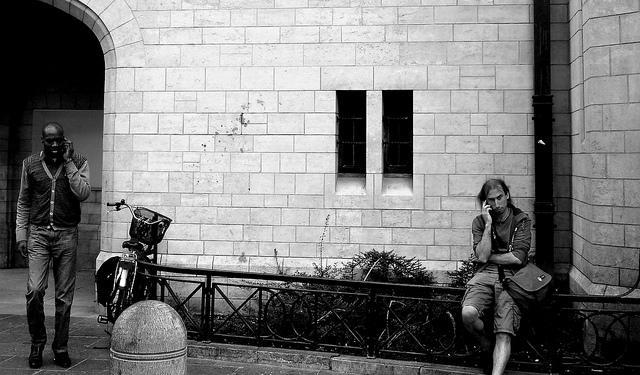bicycle: (97, 196, 174, 325)
